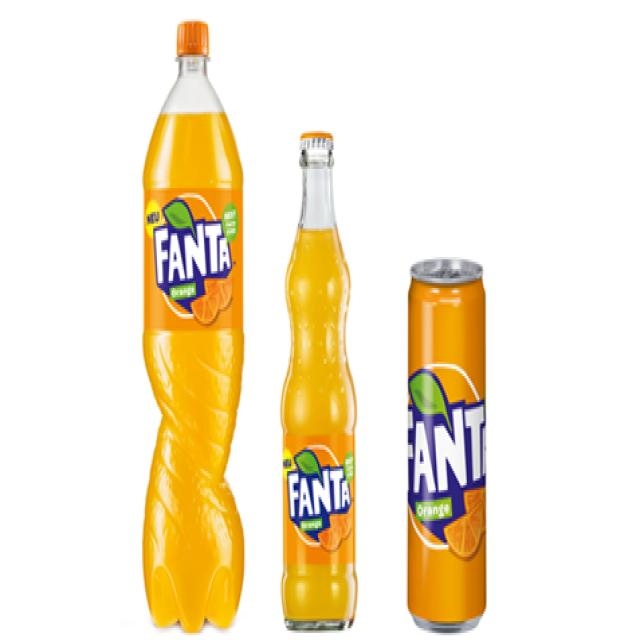fanta: (405, 262, 490, 625)
